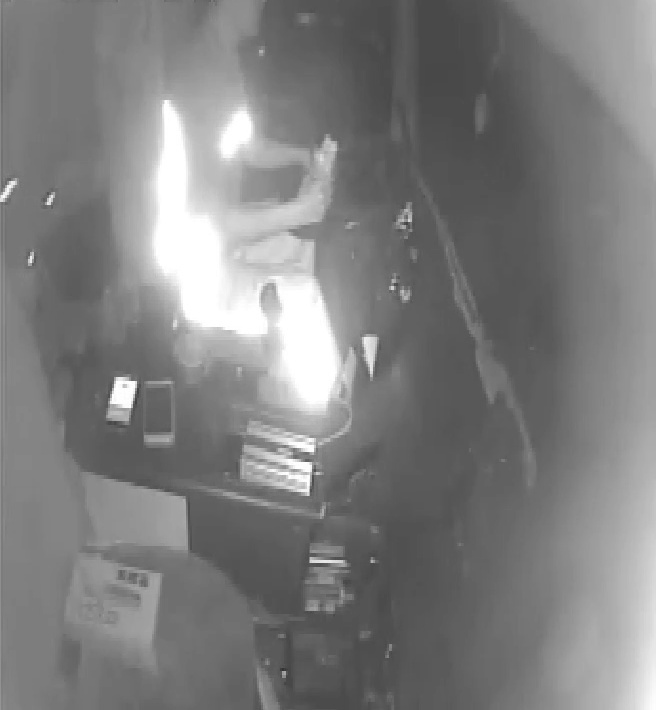cellphone: (101, 375, 142, 429)
